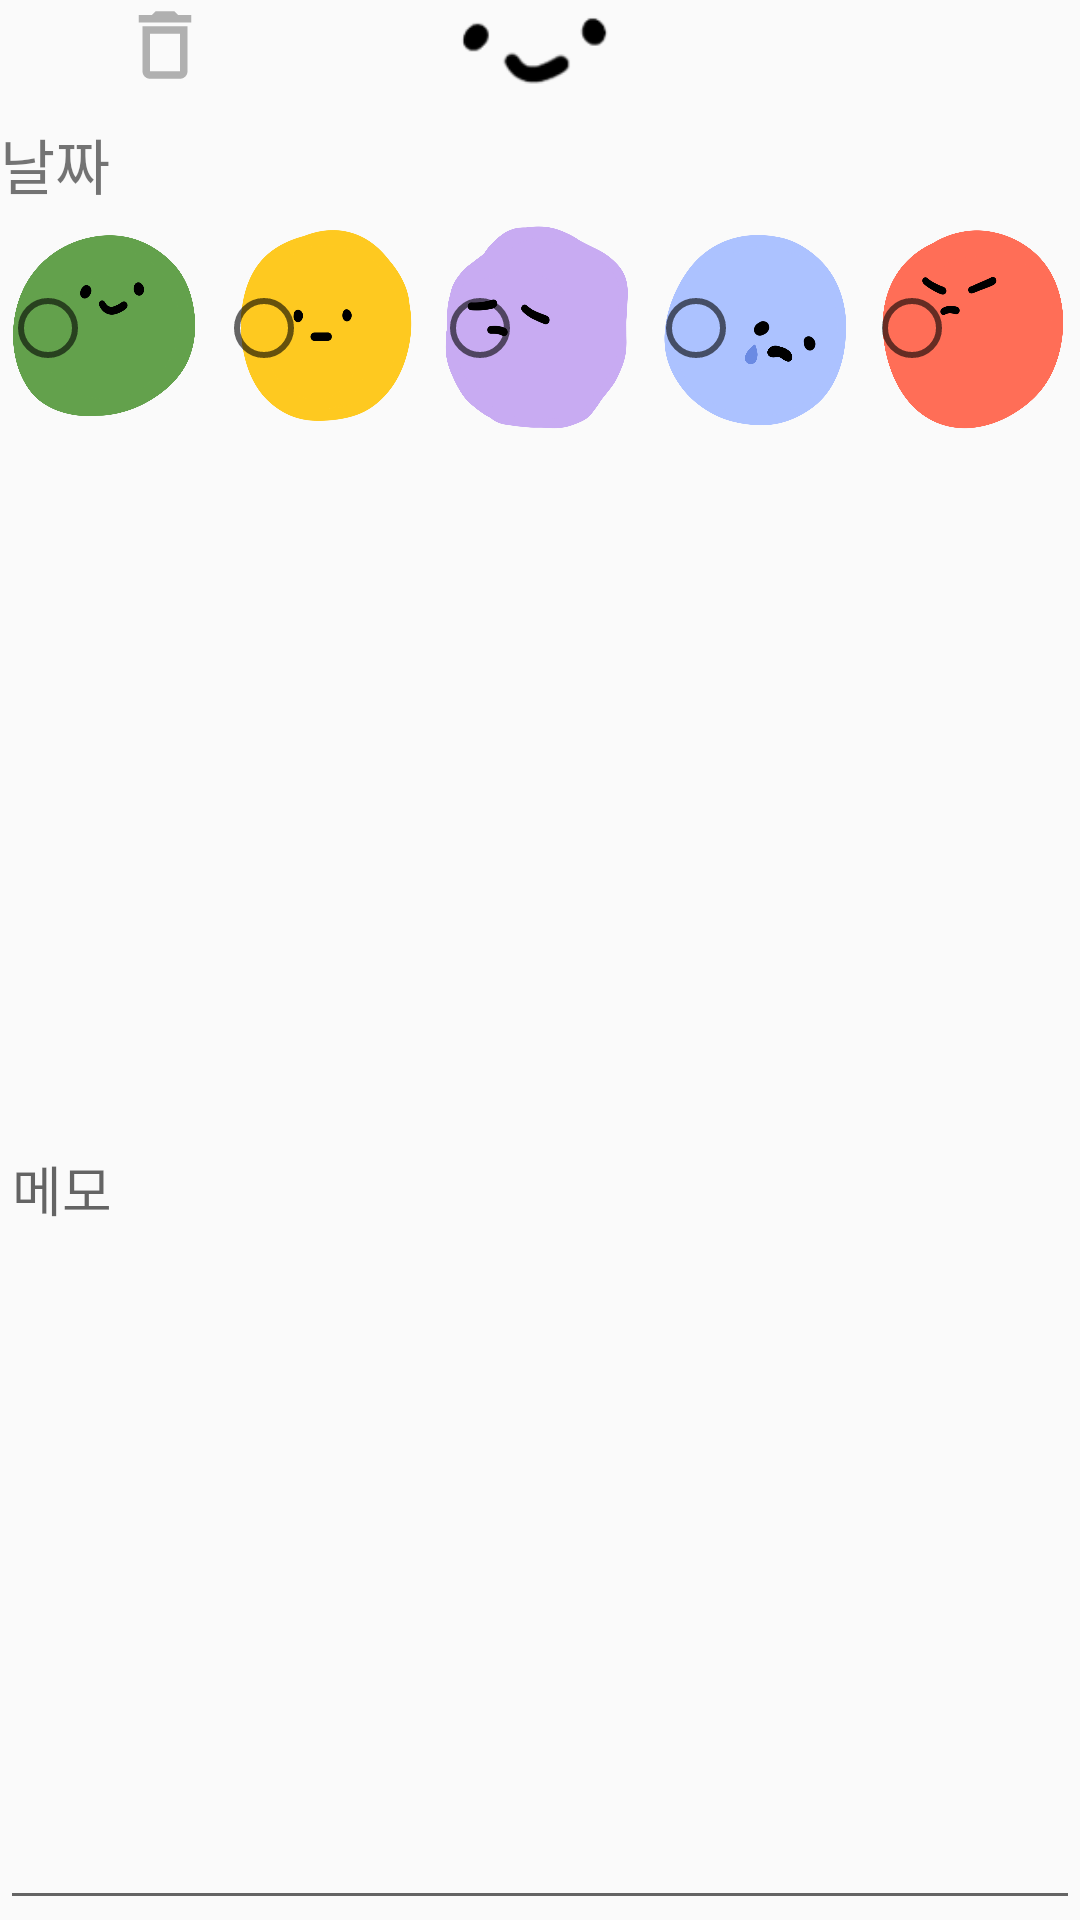

Icons on this 1080px×1920px Android screen, each with the point to tap as (x,y):
delete: (165,45)
